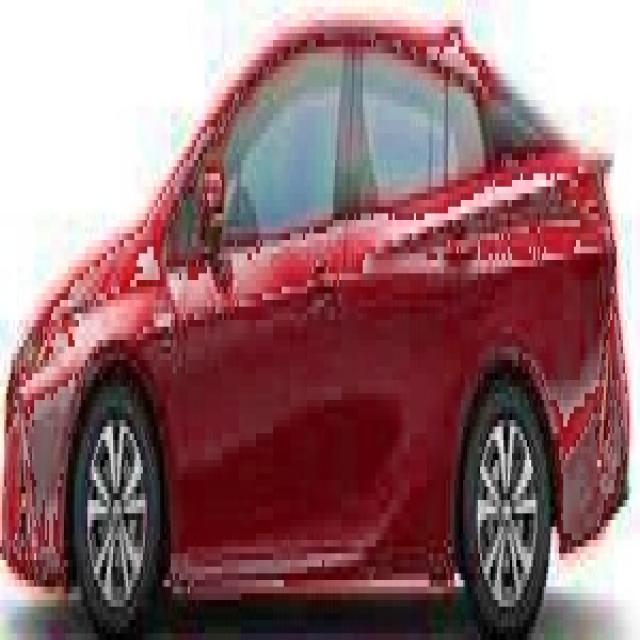maroon: (3, 26, 633, 606)
